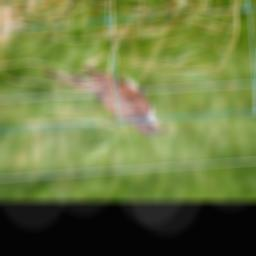Cuckoo: (41, 61, 171, 139)
